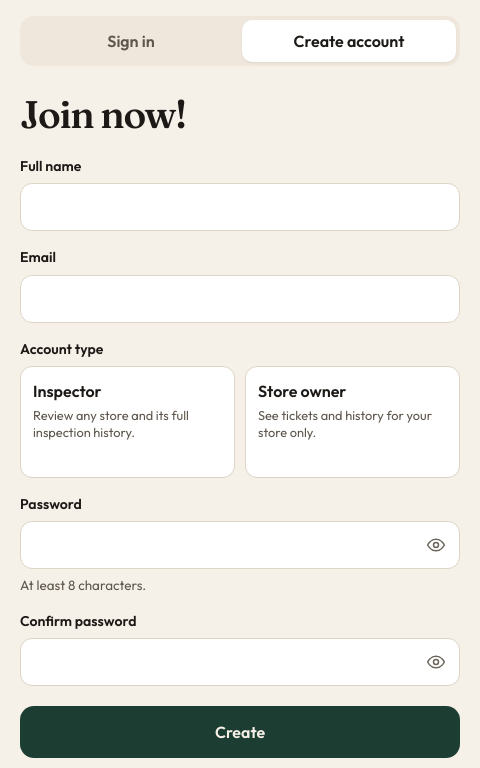
Test case: US 12 Create an account › AC 12.1: registers an inspector, confirms, and shows the login page
This screenshot has width=480, height=768.
Type "Ada Inspector" into the field labelled "Full name" at coordinates (240, 207), box [20,183,460,231]
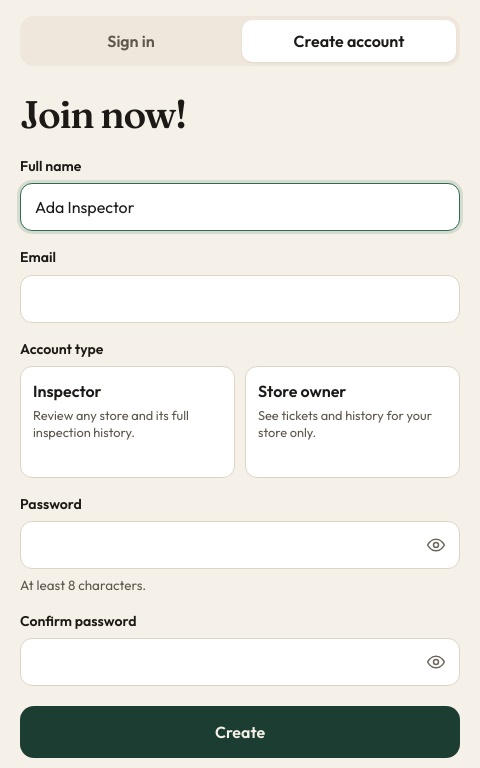
Type "ada@example.com" into the field labelled "Email" at coordinates (240, 298), box [20,274,460,322]
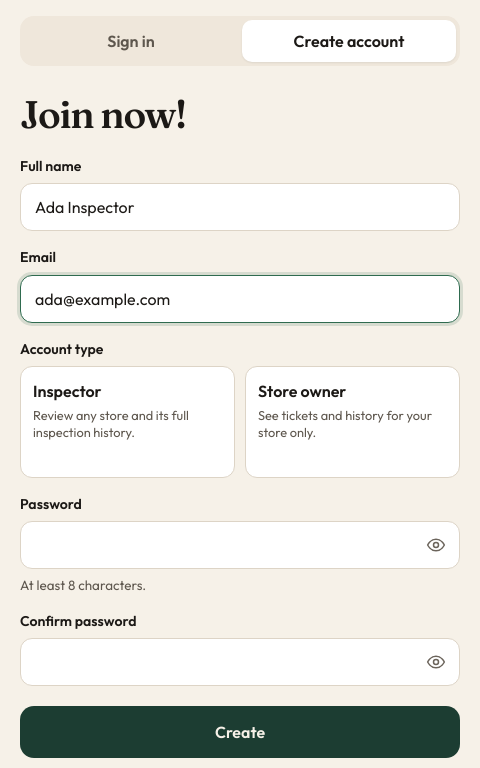
Click the radio button labelled "Inspector Review any store and its full inspection history." at coordinates (128, 422), box [20,366,235,478]
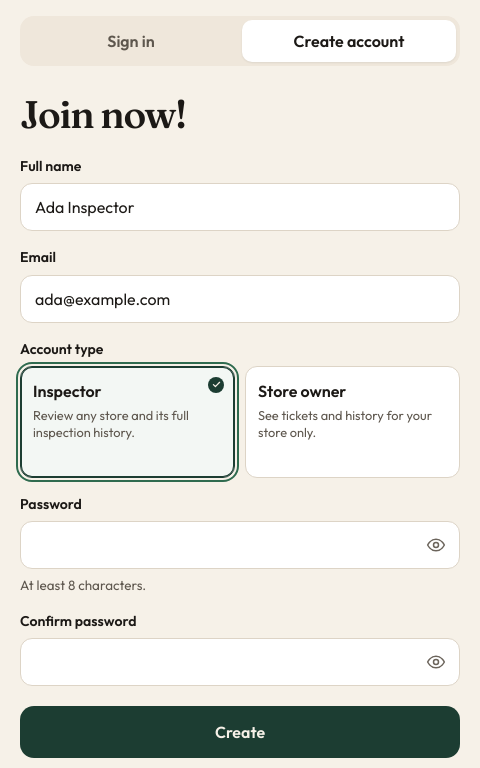
Type "correct-horse" into the password field labelled "Password" at coordinates (240, 545), box [20,521,460,569]
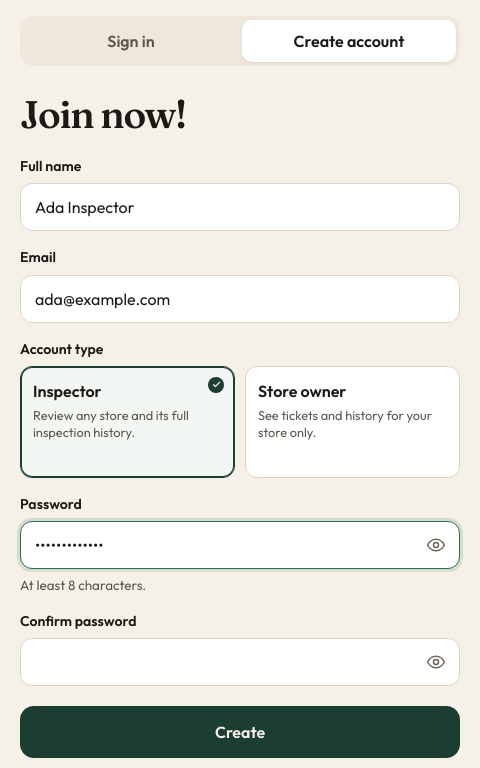
Type "correct-horse" into the password field labelled "Confirm password" at coordinates (240, 662), box [20,638,460,686]
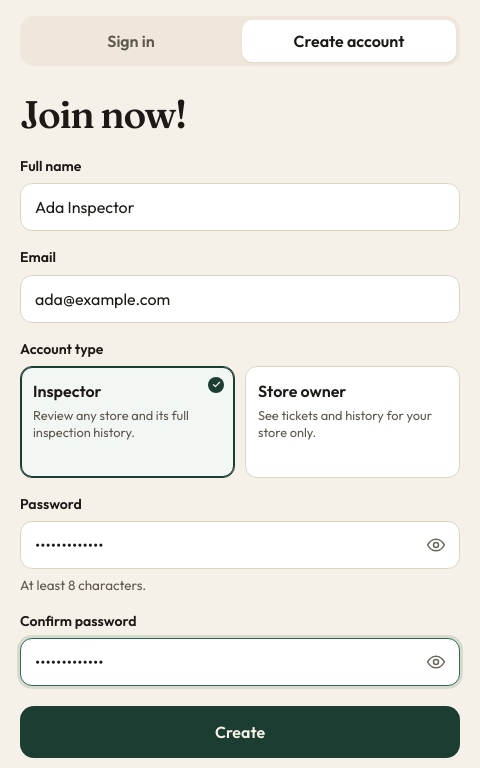
Click the button "Create" at coordinates (240, 732), box [20,706,460,758]
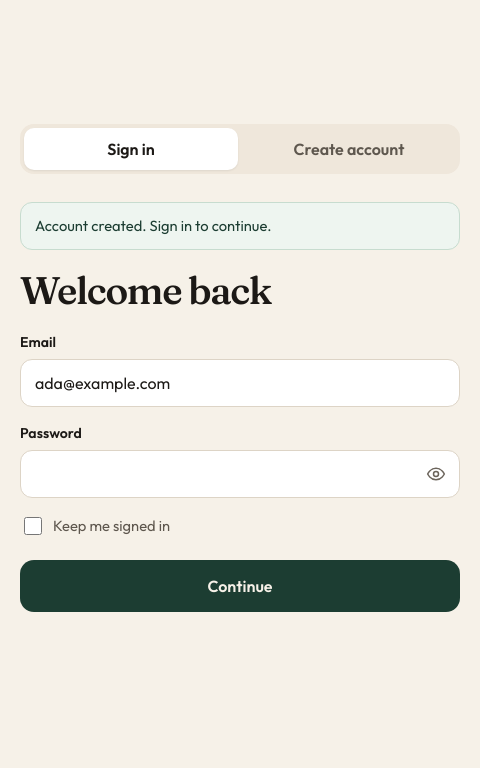
Now the message reads "Account created. Sign in to continue.", box [35,216,272,235]
Now the password field labelled "Password" is empty, box [20,450,460,498]
